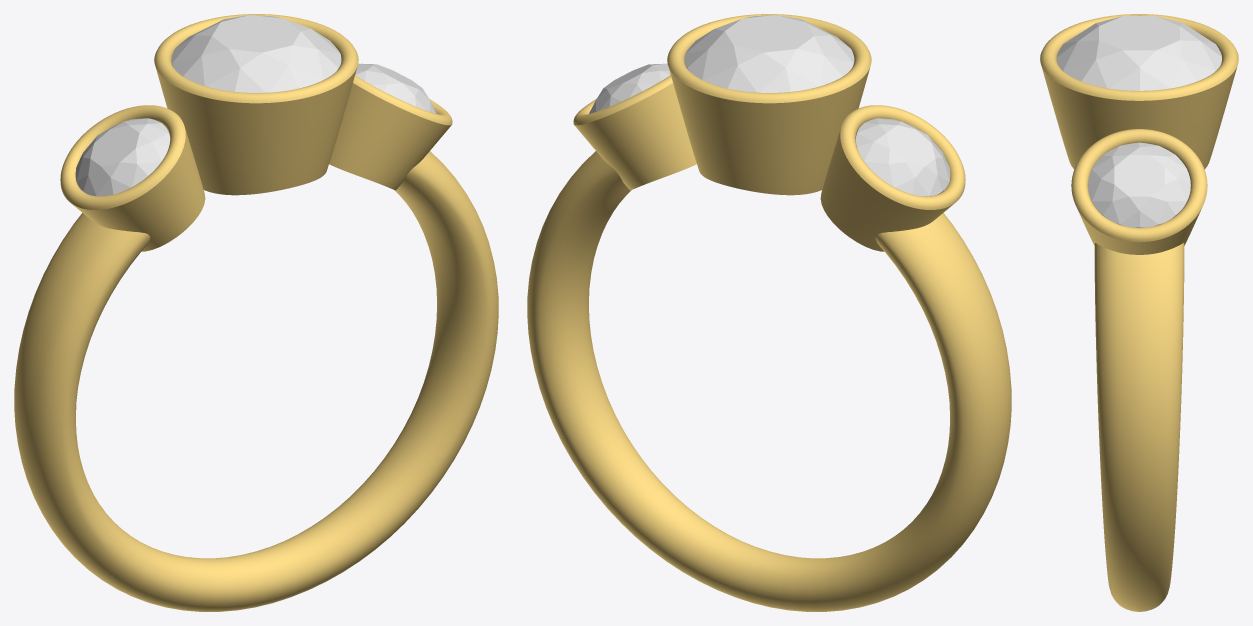
Rendered from diamond-round-yellowgold-bezelset-taperedband-2stone.glb.
3 views of the same model, side by side, from view 1: azimuth 30°, elevation 25°; view 2: azimuth 150°, elevation 25°; view 3: azimuth 270°, elevation 25° (orthographic). The views are drawn at different scales.
Visible parts, largest first — view 1: metal, stone, side, side.001; view 2: metal, stone, side, side.001; view 3: metal, stone, side.001.
Boxes of the visible parts, bbox=[...] form: metal: bbox=[14, 14, 498, 611]; stone: bbox=[171, 15, 341, 92]; side: bbox=[75, 118, 170, 196]; side.001: bbox=[355, 63, 436, 113]; metal: bbox=[527, 14, 1011, 611]; stone: bbox=[684, 15, 854, 92]; side: bbox=[855, 118, 950, 196]; side.001: bbox=[589, 63, 670, 113]; metal: bbox=[1040, 14, 1238, 611]; stone: bbox=[1057, 15, 1221, 90]; side.001: bbox=[1088, 142, 1190, 227].
Bounding box in the file's own units: 20.5 × 23.8 × 7.74.
